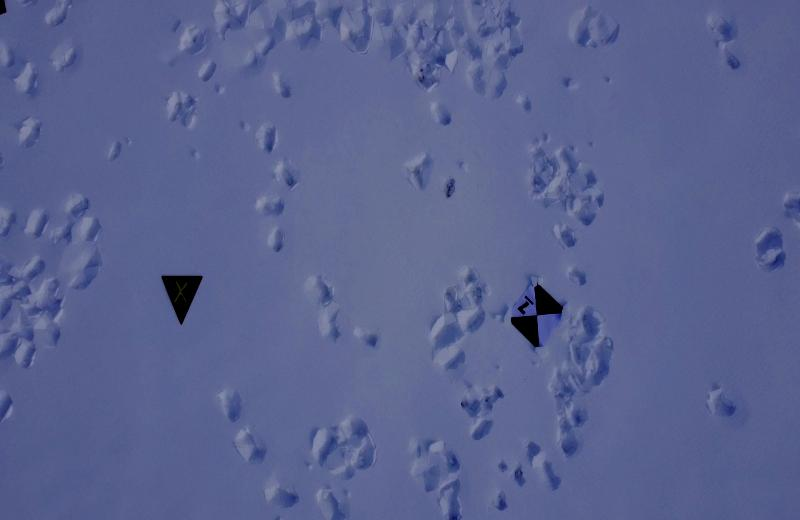Triangle: (160, 270, 204, 324)
